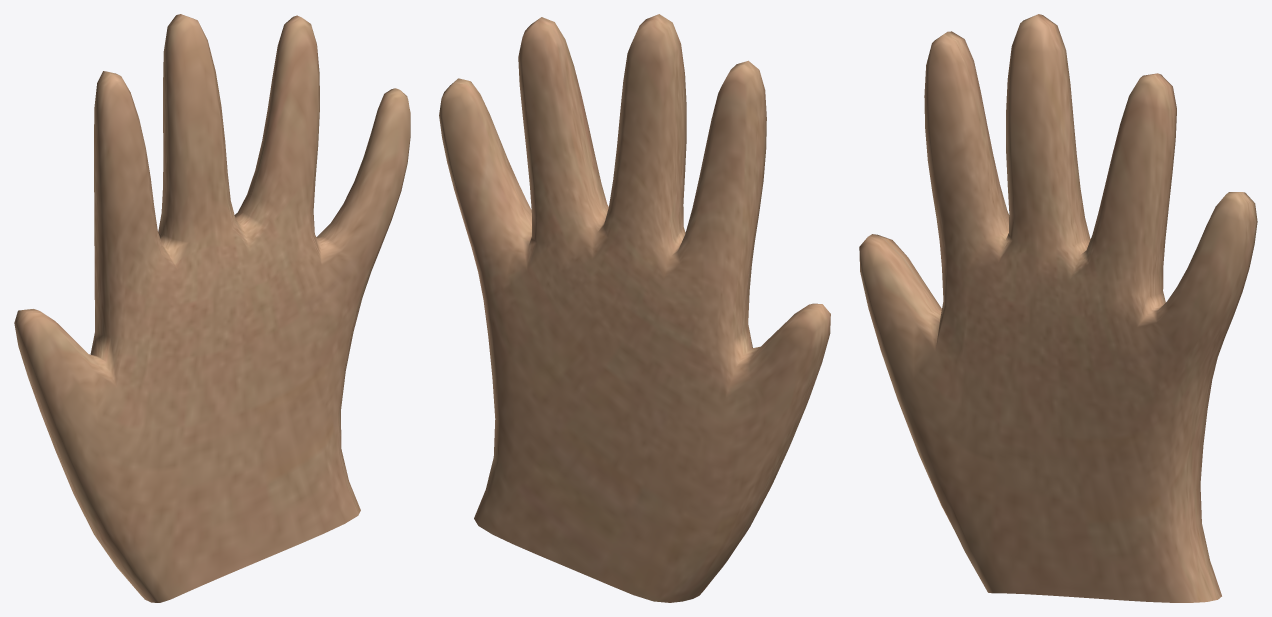
Rendered from ModelMana2.fbx.
The picture shows the model from 3 angles, left to right: view 1: azimuth 30°, elevation 25°; view 2: azimuth 150°, elevation 25°; view 3: azimuth 330°, elevation 25°; orthographic projection.
Parts seen in each view (by area): view 1: Cube; view 2: Cube; view 3: Cube.
Boxes of the visible parts, <box> form: Cube: <box>14,14,410,602</box>; Cube: <box>439,14,830,602</box>; Cube: <box>859,14,1257,602</box>.
Size of the model in its own units: 328 by 463 by 60.5.
